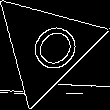O_SW: (13, 13, 80, 80)
